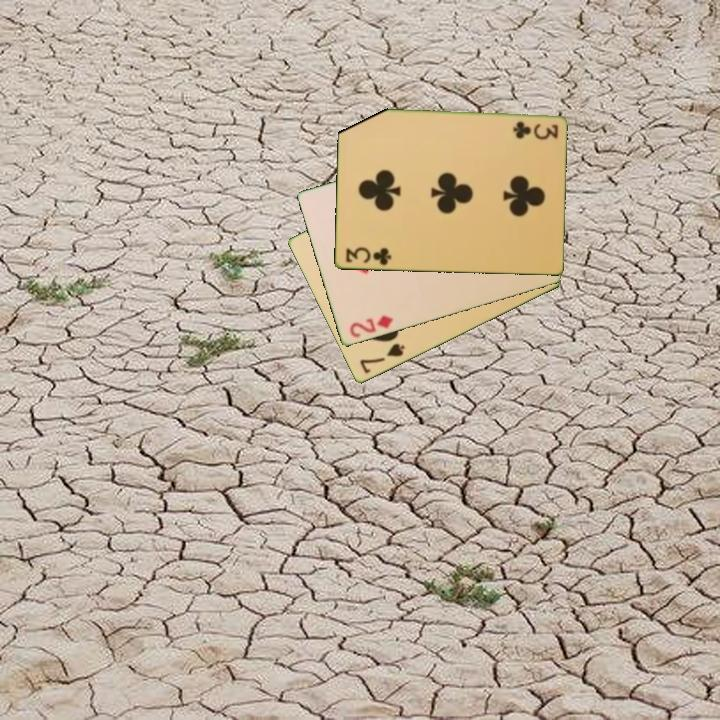2d: (346, 312, 396, 341)
3c: (342, 244, 394, 268), (509, 118, 561, 140)
7s: (356, 340, 408, 376)
